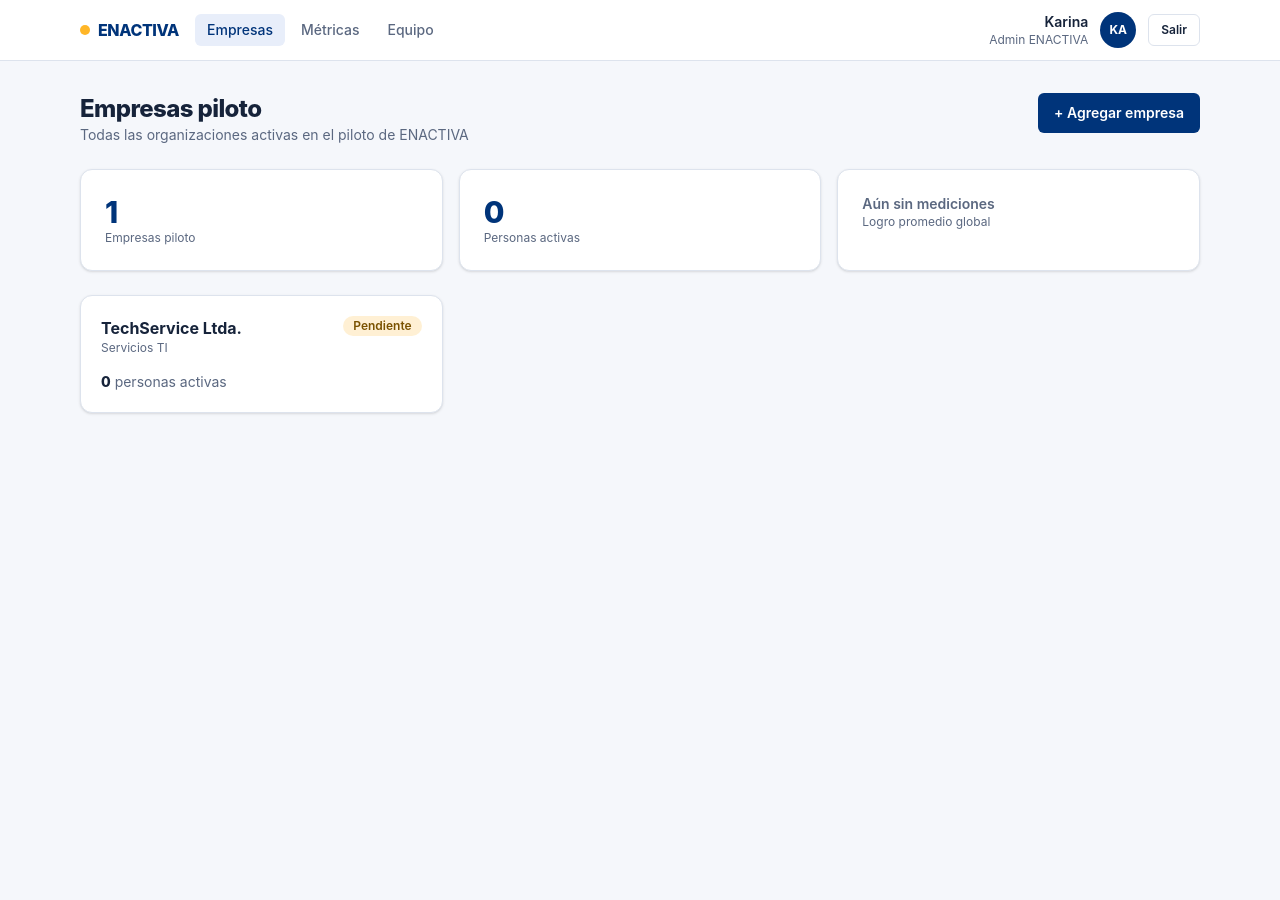
Panel de empresas › el Admin Principal abre la ficha y puede activar la empresa
Click the button "TechService Ltda. Servicios TI Pendiente 0 personas activas".
click(171, 328)  # box [80,295,443,413]
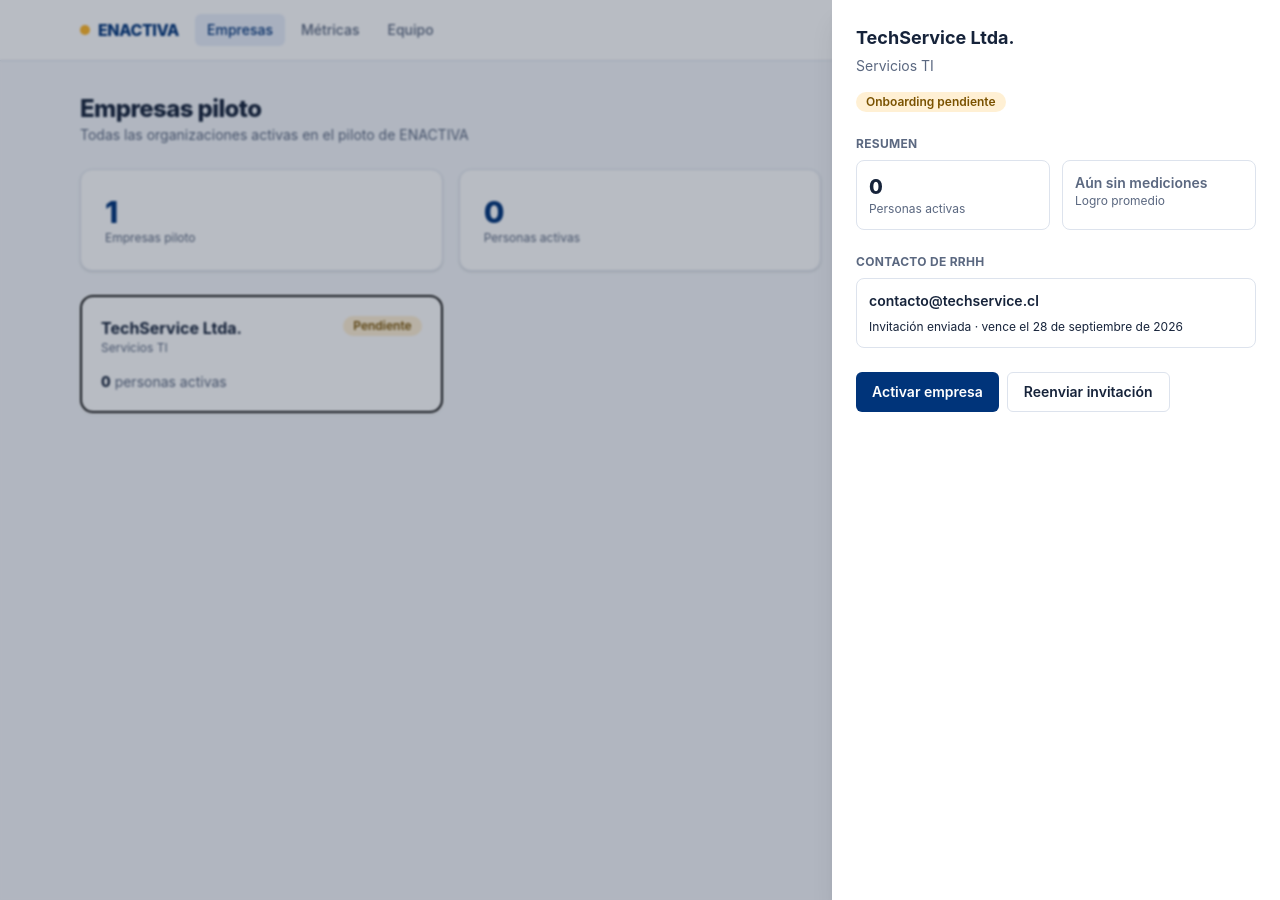
Expected: the text "contacto@techservice.cl" is shown, [869,292,1039,309]
Expected: the text "Invitación enviada" is shown, [869,319,971,334]
Click the button "Activar empresa".
click(927, 392)  # box [856,372,999,412]
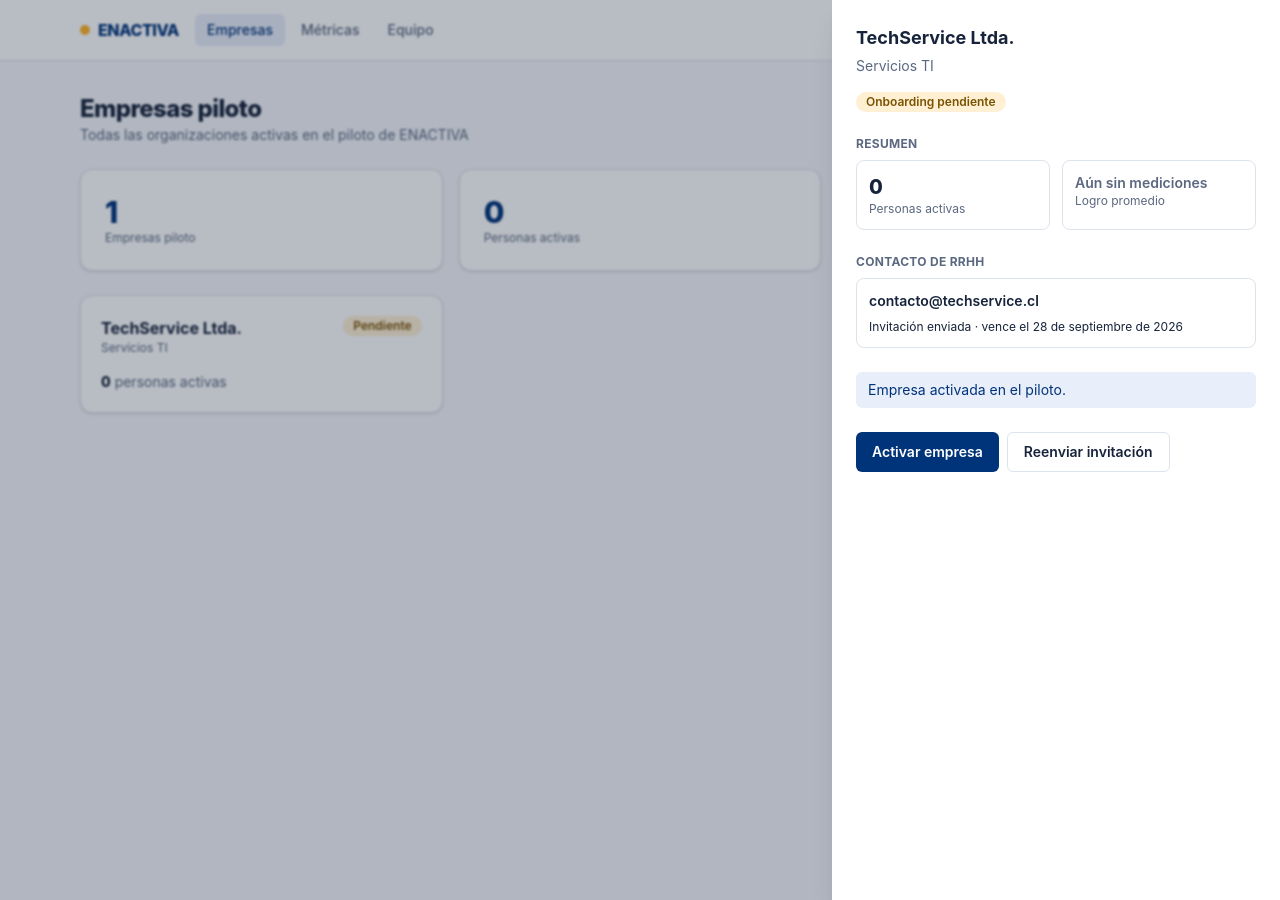
Expected: the message shows "Empresa activada", [868,381,1066,398]
